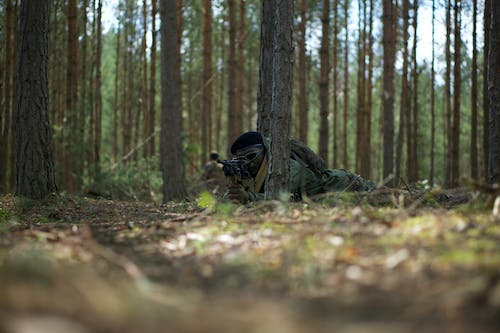gun: (217, 155, 258, 186)
